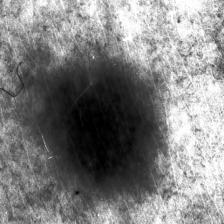Benign Marking or Mole: (51, 75, 159, 186)
